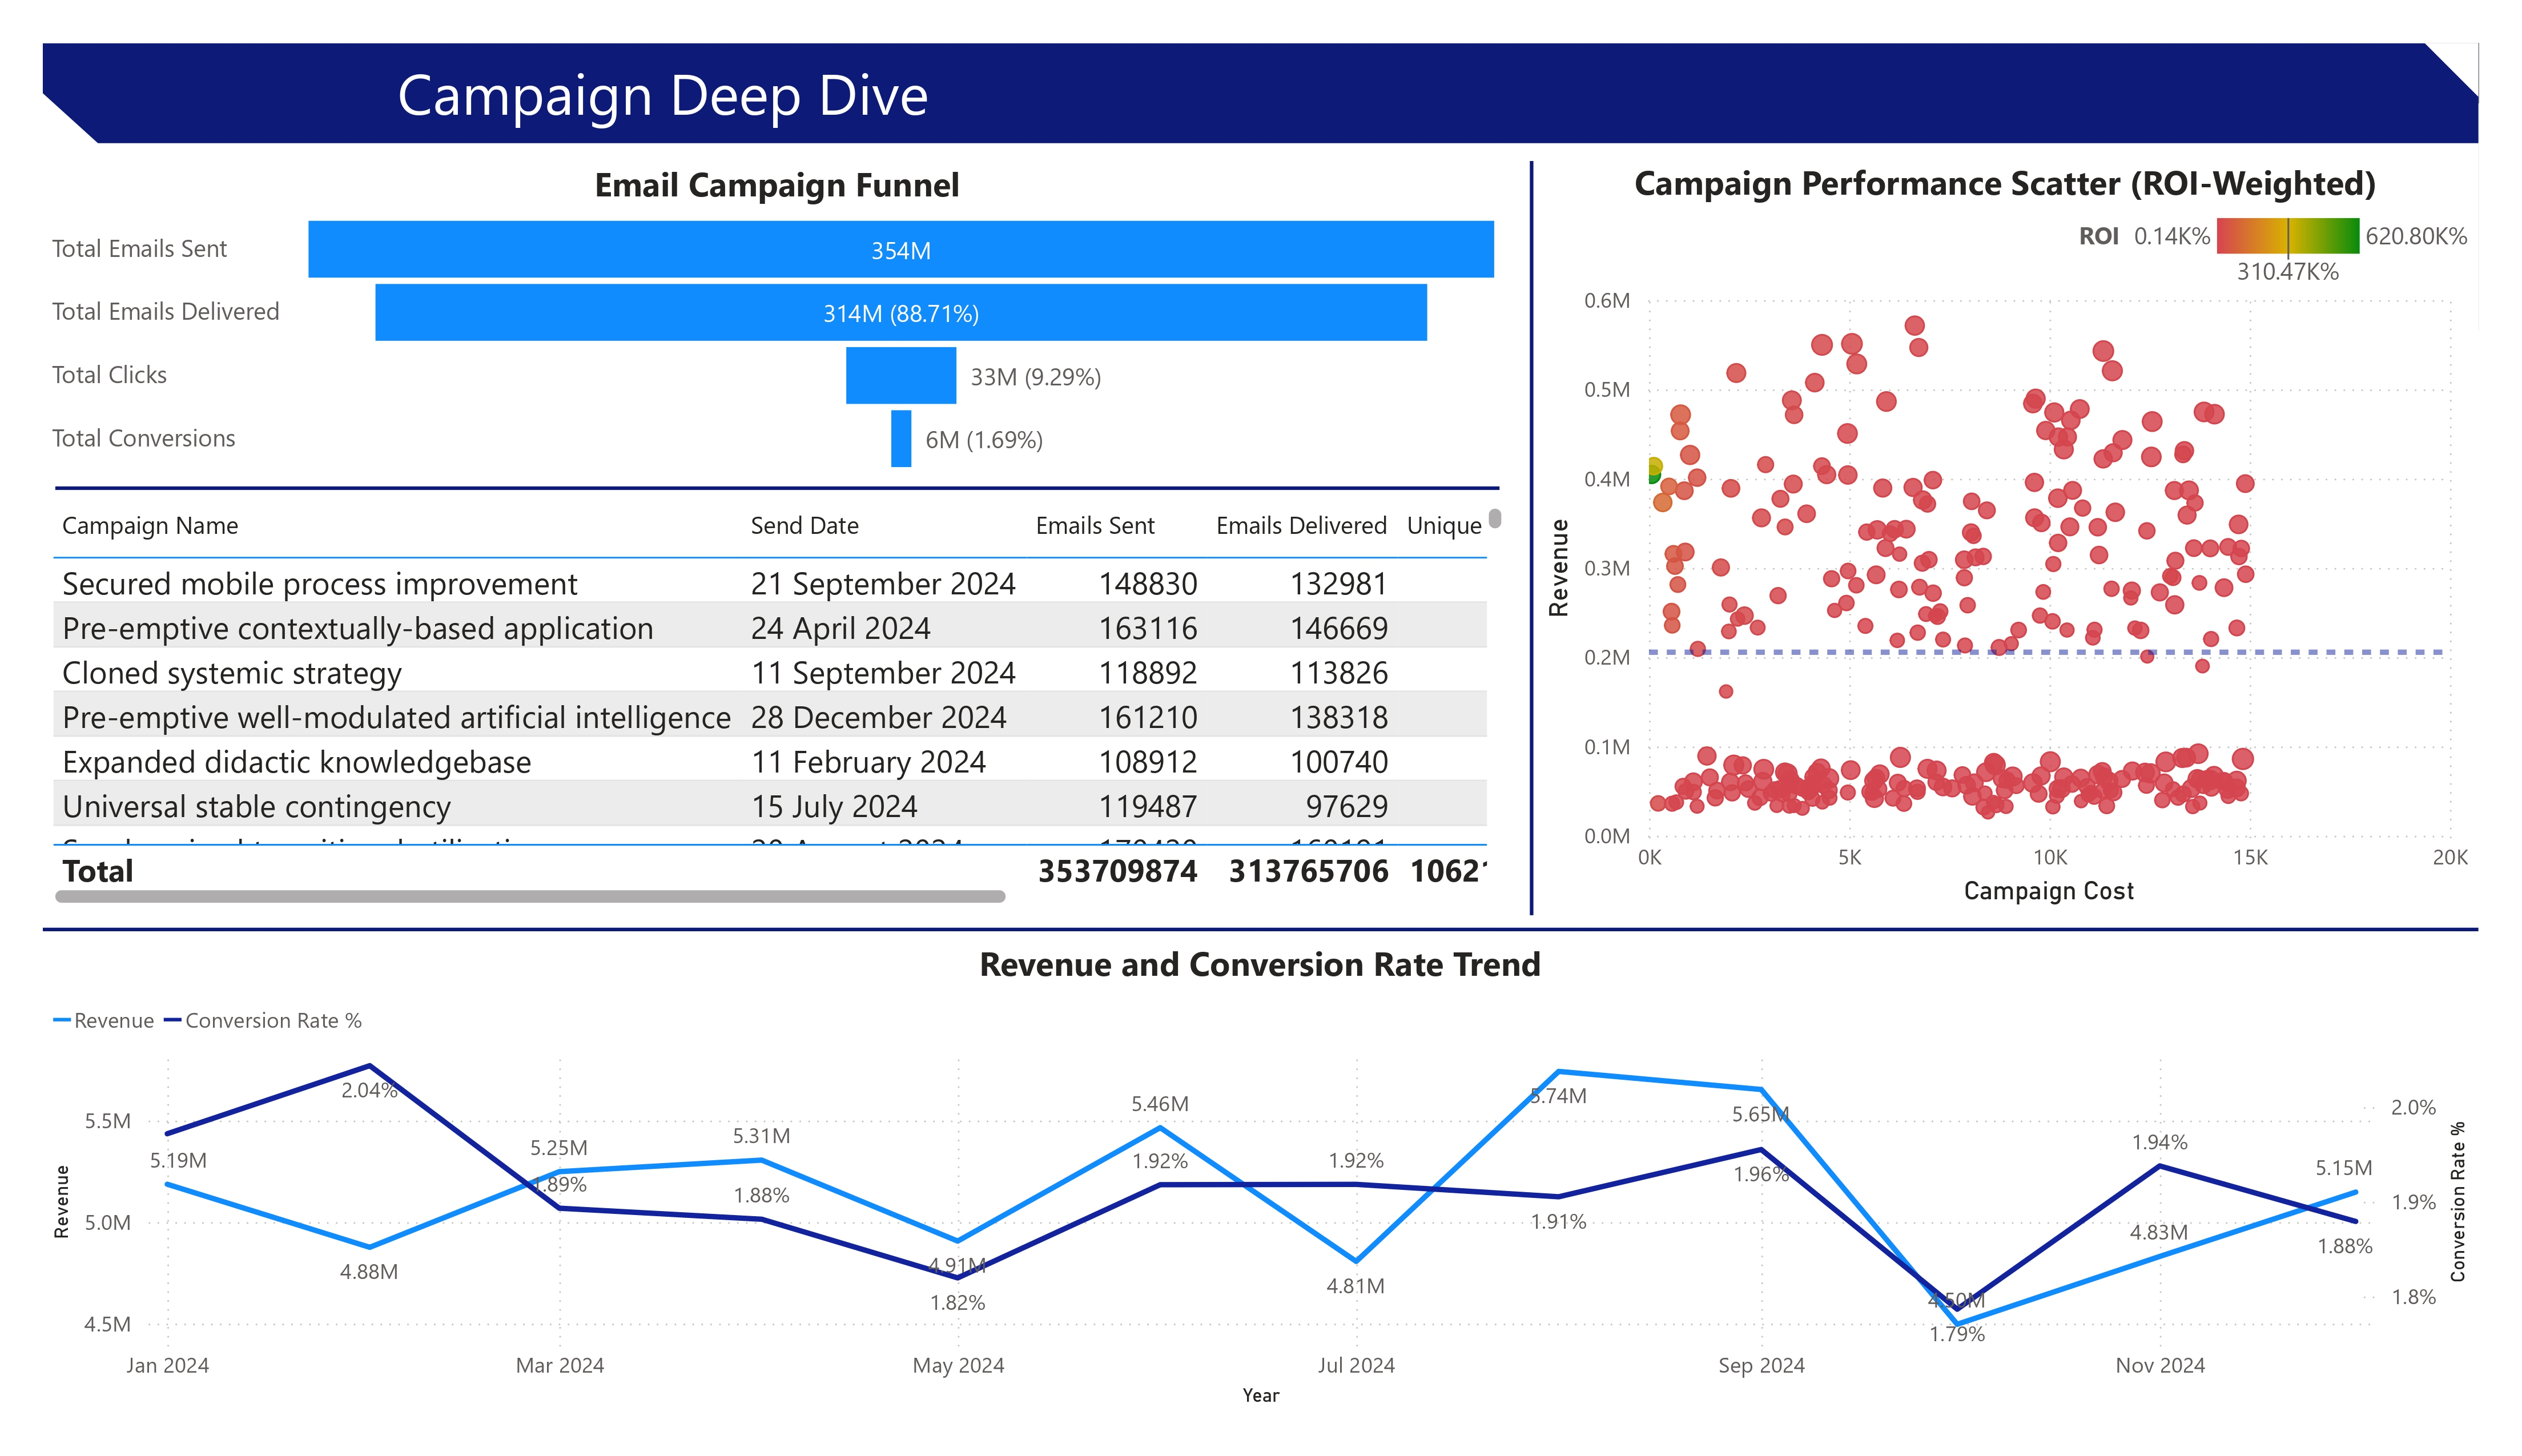

Layout of this report page (visuals, bound fields, positions):
{"tool":"powerbi","page":{"name":"Campaign Deep Dive","canvas":[1366,768],"ordinal":1},"visuals":[{"type":"group","title":"Group 1","box":[0,0,1366.7,56.7],"z":0},{"type":"shape","box":[0,0,1365.7,55.7],"z":0},{"type":"shape","box":[1336.2,0,29.6,29.6],"z":1000},{"type":"shape","box":[1337.3,0,29.4,30.2],"z":1000},{"type":"funnel","title":"Email Campaign Funnel","fields":{"Y":["_Measures.Total Emails Sent","_Measures.Total Emails Delivered","_Measures.Total Clicks","_Measures.Total Conversions"]},"box":[0,65.7,824.3,180],"z":1000},{"type":"shape","box":[0,26.4,32,30.2],"z":2000},{"type":"tableEx","fields":{"Values":["Dim_Campaigns.Campaign_Name","Dim_Time.Send_Date","_Measures.Total Emails Sent","_Measures.Total Emails Delivered","_Measures.Total Unique Opens","_Measures.Total Conversions","_Measures.Total Revenue","_Measures.Revenue per Recipient"]},"box":[0,255.5,823.6,232.7],"z":2000},{"type":"shape","box":[0,27.5,32,29.8],"z":3000},{"type":"scatterChart","title":"Campaign Performance Scatter (ROI-Weighted)","fields":{"X":["_Measures.Total Campaign Cost"],"Y":["_Measures.Total Revenue"],"Size":["_Measures.Total Emails Sent"],"Category":["Dim_Campaigns.Campaign_Name"]},"box":[837.3,65.5,528.2,422.7],"z":3000},{"type":"lineChart","title":"Revenue and Conversion Rate Trend","fields":{"Y":["_Measures.Total Revenue"],"Y2":["_Measures.Conversion Rate %"],"Category":["Dim_Time.Send_Date.Variation.Date Hierarchy.Year","Dim_Time.Send_Date.Variation.Date Hierarchy.Quarter","Dim_Time.Send_Date.Variation.Date Hierarchy.Month","Dim_Time.Send_Date.Variation.Date Hierarchy.Day"]},"box":[0,502.9,1365.7,265.7],"z":4000},{"type":"shape","box":[0,491.1,1365.6,12.2],"z":5000},{"type":"textbox","box":[194.3,0,378.6,55.7],"z":6000},{"type":"shape","box":[7.1,242.9,810,12.9],"z":6000},{"type":"shape","box":[831.9,65.6,5.6,423.1],"z":7000},{"type":"group","title":"Group 2","box":[0,0,1365.8,57.2],"z":8000}]}

Visuals, with their boxes in screenshot pixels (x1, y1, x2, y2):
"Group 1" group: 43, 43, 2479, 144
shape: 43, 43, 2479, 142
shape: 2426, 43, 2479, 96
shape: 2428, 43, 2479, 96
"Email Campaign Funnel" funnel: 43, 160, 1513, 481
shape: 43, 90, 100, 144
tableEx - Dim_Campaigns.Campaign_Name x Dim_Time.Send_Date: 43, 498, 1512, 914
shape: 43, 92, 100, 145
"Campaign Performance Scatter (ROI-Weighted)" scatterChart: 1536, 160, 2478, 914
"Revenue and Conversion Rate Trend" lineChart: 43, 940, 2479, 1413
shape: 43, 919, 2479, 941
textbox: 389, 43, 1065, 142
shape: 55, 476, 1500, 499
shape: 1527, 160, 1536, 915
"Group 2" group: 43, 43, 2479, 145
